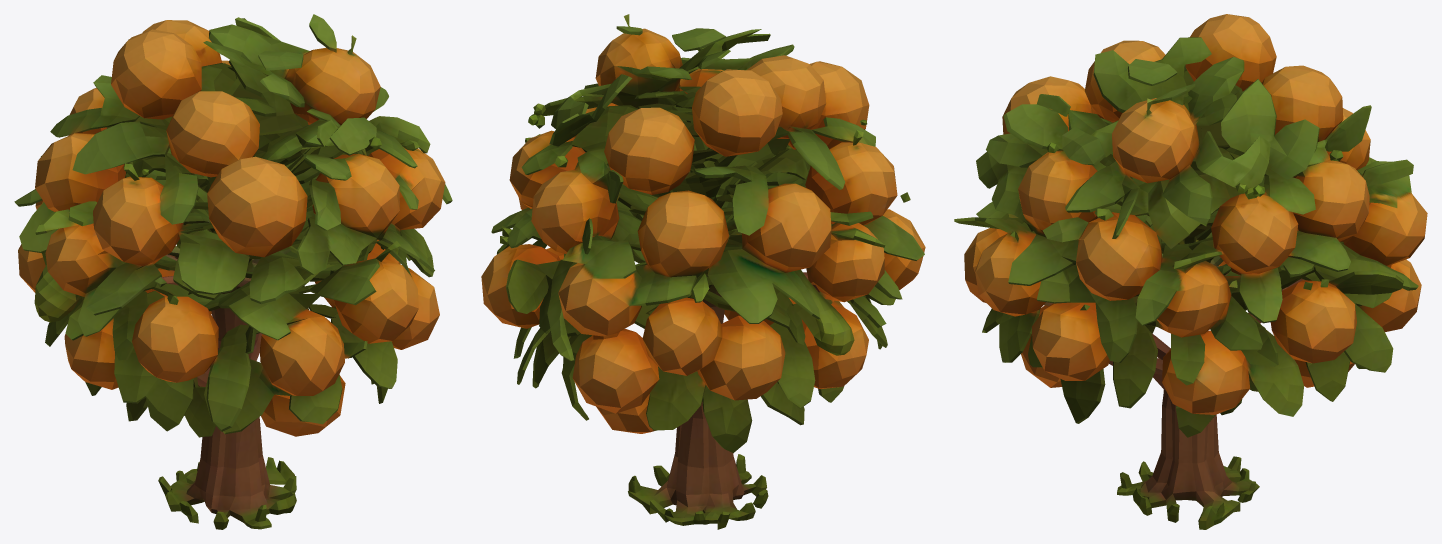
The model's file is tripo_convert_709ebc38-cc45-4953-bb47-42aa7044be9e.fbx.
3 views of the same model, side by side, from view 1: azimuth 30°, elevation 25°; view 2: azimuth 150°, elevation 25°; view 3: azimuth 270°, elevation 25° (orthographic). The views are drawn at different scales.
Visible parts, largest first — view 1: tripo_node_709ebc38; view 2: tripo_node_709ebc38; view 3: tripo_node_709ebc38.
Part boxes in pixels (box(x1,y1,x2,y2)): tripo_node_709ebc38: box(14, 14, 452, 529); tripo_node_709ebc38: box(481, 14, 925, 529); tripo_node_709ebc38: box(954, 14, 1427, 529).
Size of the model in its own units: 0.8705 by 0.9997 by 0.9449.
Materials: 1 (1 with a texture image).
